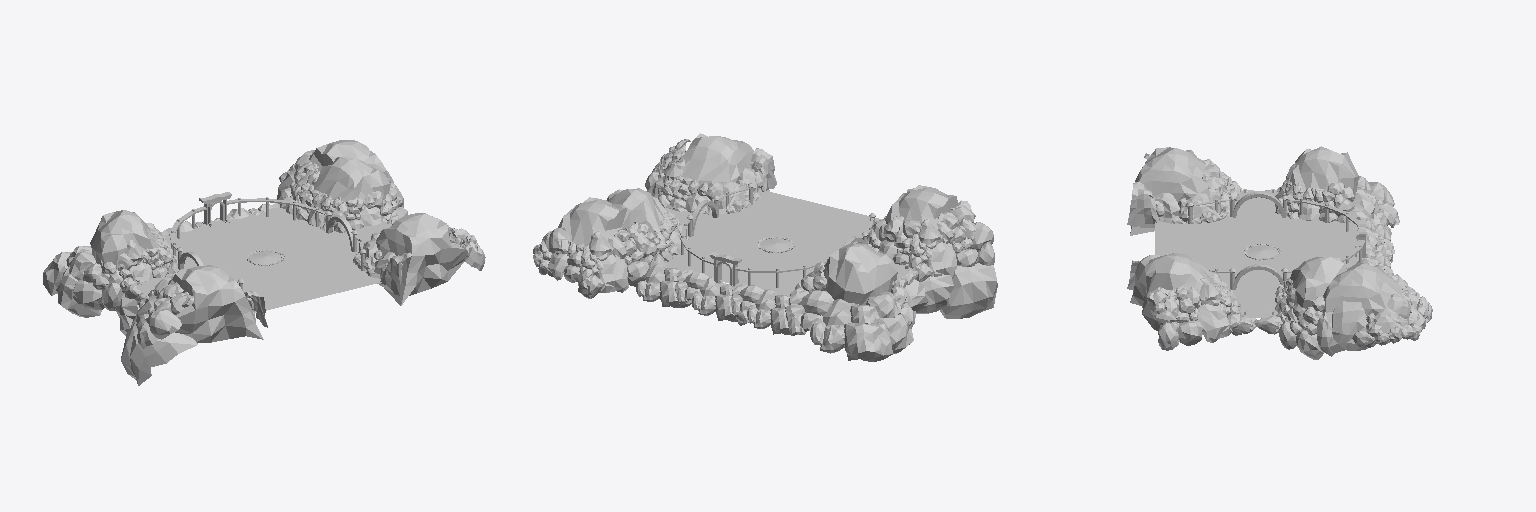
Rendered from Main_level_complete.OBJ.
The picture shows the model from 3 angles: view 1: azimuth 30°, elevation 25°; view 2: azimuth 150°, elevation 25°; view 3: azimuth 270°, elevation 25°; orthographic projection.
Visible parts, largest first — view 1: Group6, Group3, Group4; view 2: Group6, Group3, Group4; view 3: Group6, Group3, Group4.
Boxes of the visible parts, x1,y1,x2,y2 form: Group6: [43, 140, 485, 385]; Group3: [133, 208, 391, 313]; Group4: [169, 192, 365, 290]; Group6: [533, 133, 997, 361]; Group3: [664, 191, 912, 295]; Group4: [680, 183, 875, 287]; Group6: [1127, 146, 1432, 359]; Group3: [1155, 190, 1358, 317]; Group4: [1187, 192, 1365, 289].
Bounding box in the file's own units: 481 × 139 × 358.